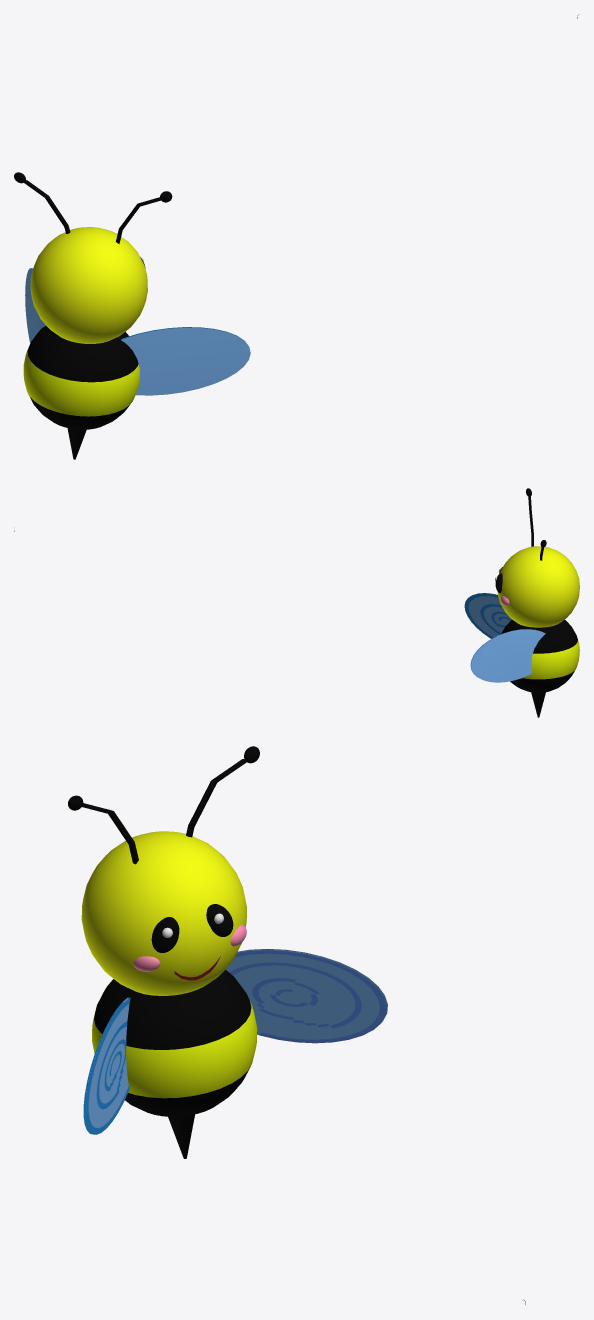
The model's file is bee.glb.
The picture shows the model from 3 angles, top to bottom: view 1: azimuth 30°, elevation 25°; view 2: azimuth 150°, elevation 25°; view 3: azimuth 270°, elevation 25°; orthographic projection. The views are drawn at different scales.
Visible parts, largest first — view 1: Sphere.001, Sphere, Cylinder.001, Cylinder; view 2: Sphere.001, Sphere, Cylinder, Cylinder.001; view 3: Sphere.001, Sphere, Cylinder, Cylinder.001, Plane.004, Plane.001, Sphere.002.
Boxes of the visible parts, x1,y1,x2,y2 form: Sphere.001: (30, 227, 147, 343); Sphere: (23, 326, 139, 459); Cylinder.001: (121, 327, 250, 395); Cylinder: (25, 268, 46, 343); Sphere.001: (497, 546, 579, 627); Sphere: (501, 619, 579, 717); Cylinder: (470, 629, 545, 682); Cylinder.001: (464, 593, 511, 638); Sphere.001: (81, 831, 246, 995); Sphere: (92, 969, 257, 1158); Cylinder: (225, 949, 387, 1043); Cylinder.001: (83, 997, 130, 1134); Plane.004: (186, 746, 259, 837); Plane.001: (68, 795, 138, 864); Sphere.002: (151, 917, 179, 952).
Bounding box in the file's own units: 286 × 115 × 120.
